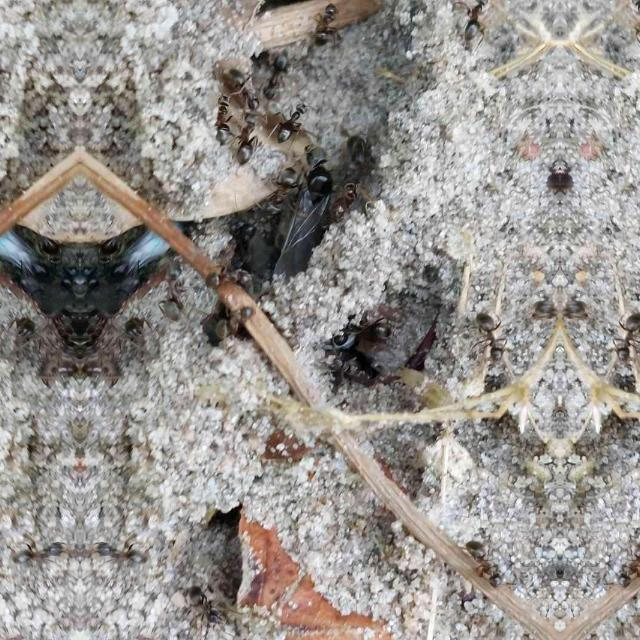Lasius: (272, 147, 344, 279), (459, 526, 511, 594), (212, 297, 260, 351), (255, 158, 298, 218), (154, 253, 188, 327), (606, 526, 640, 594), (176, 574, 224, 622), (270, 100, 320, 146), (198, 256, 258, 294), (306, 0, 350, 48), (116, 304, 160, 352), (0, 304, 42, 352), (224, 60, 262, 108), (477, 304, 508, 361), (90, 526, 136, 564), (22, 526, 68, 564), (610, 302, 640, 360), (454, 0, 488, 44), (260, 54, 292, 100), (334, 314, 390, 340), (232, 117, 262, 163), (208, 92, 232, 144), (79, 364, 117, 391), (41, 364, 79, 391), (630, 0, 640, 44)
